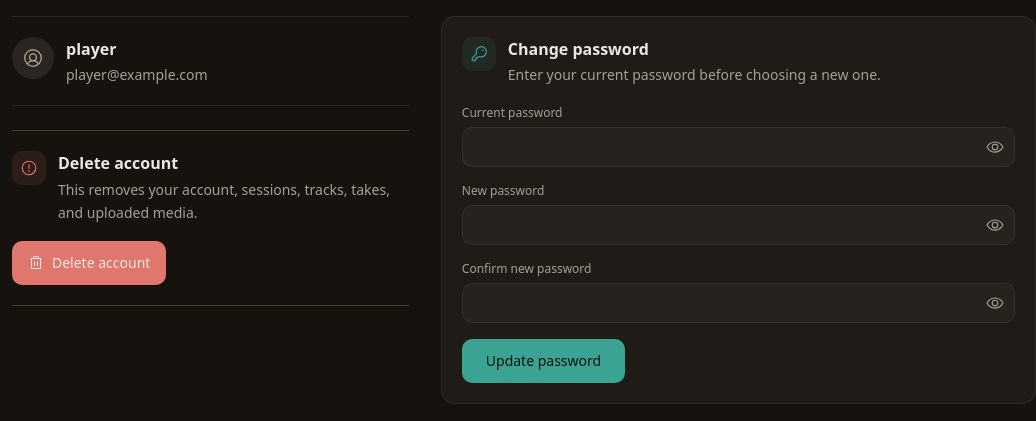
AccountSettingsPanel › shows account delete errors
Click the button "Delete account".
click(89, 262)  # box [12,240,166,284]
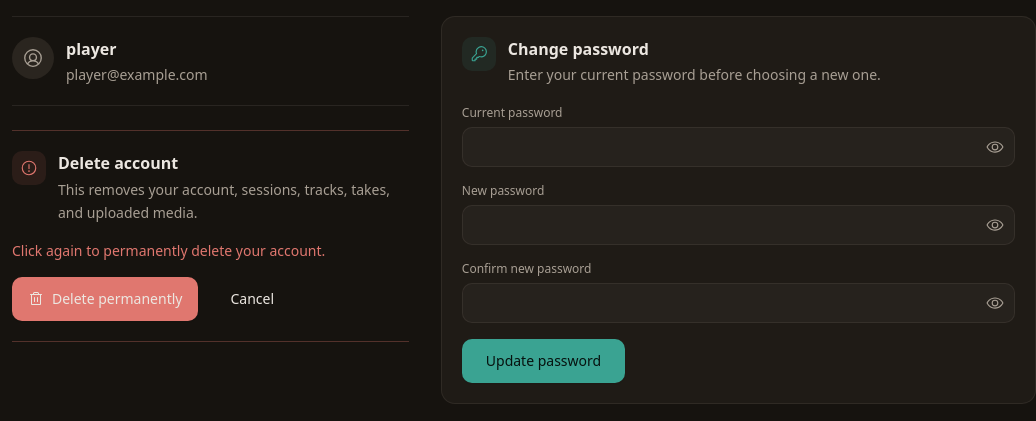
Click the button "Delete permanently".
click(105, 298)  # box [12,276,198,320]
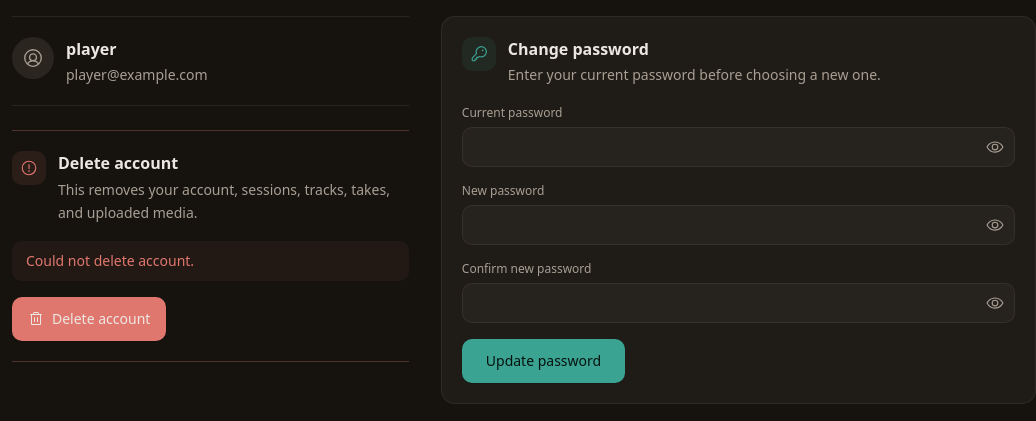
Now the text "Could not delete account." is shown, box [12,240,409,280]
